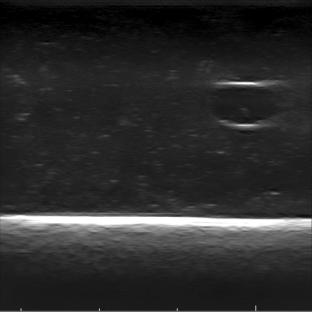vessel: (207, 80, 282, 130)
